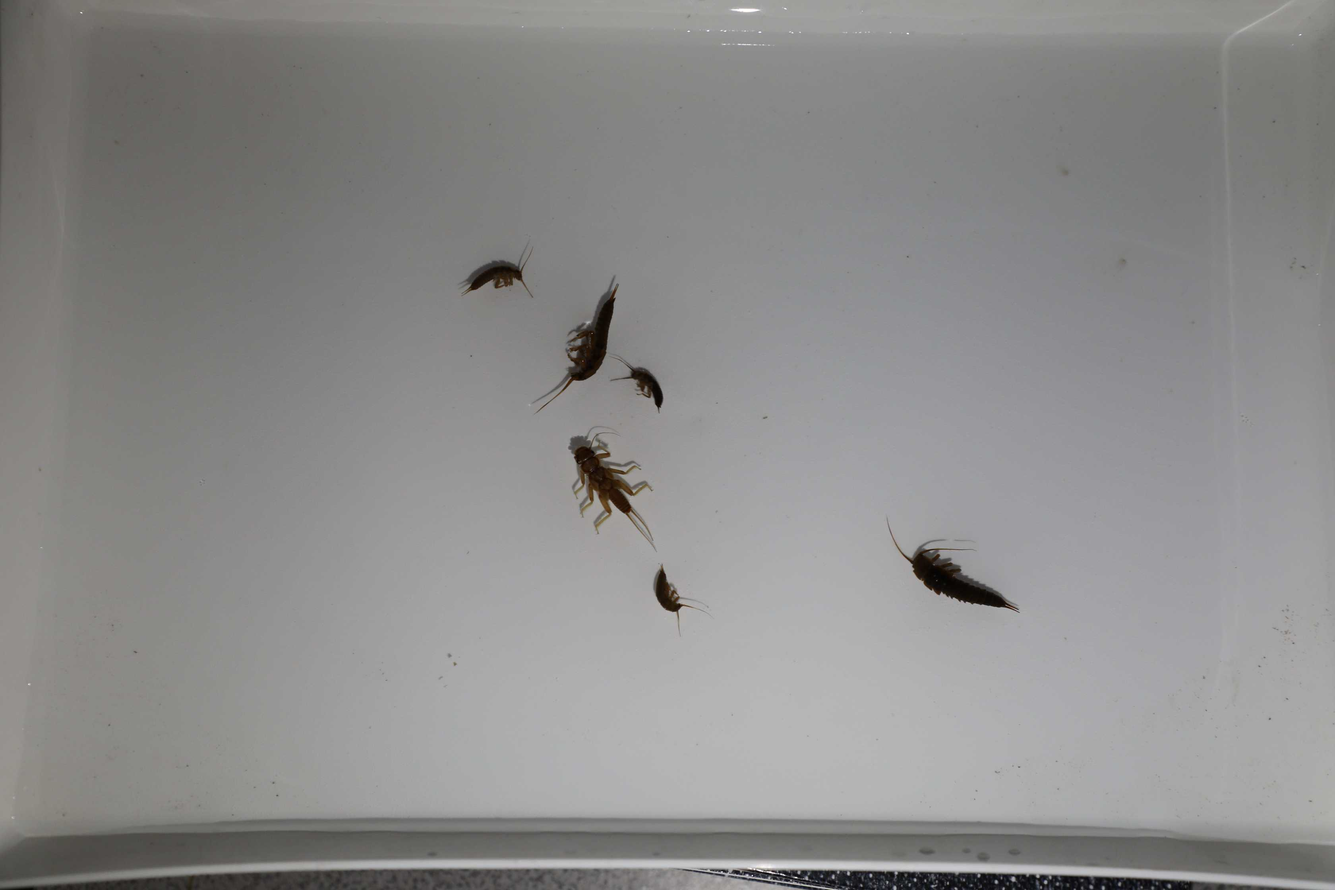Stonefly: (883, 518, 1019, 614), (532, 276, 619, 414), (568, 439, 656, 556), (649, 560, 708, 637), (466, 246, 538, 309), (613, 353, 667, 411)
